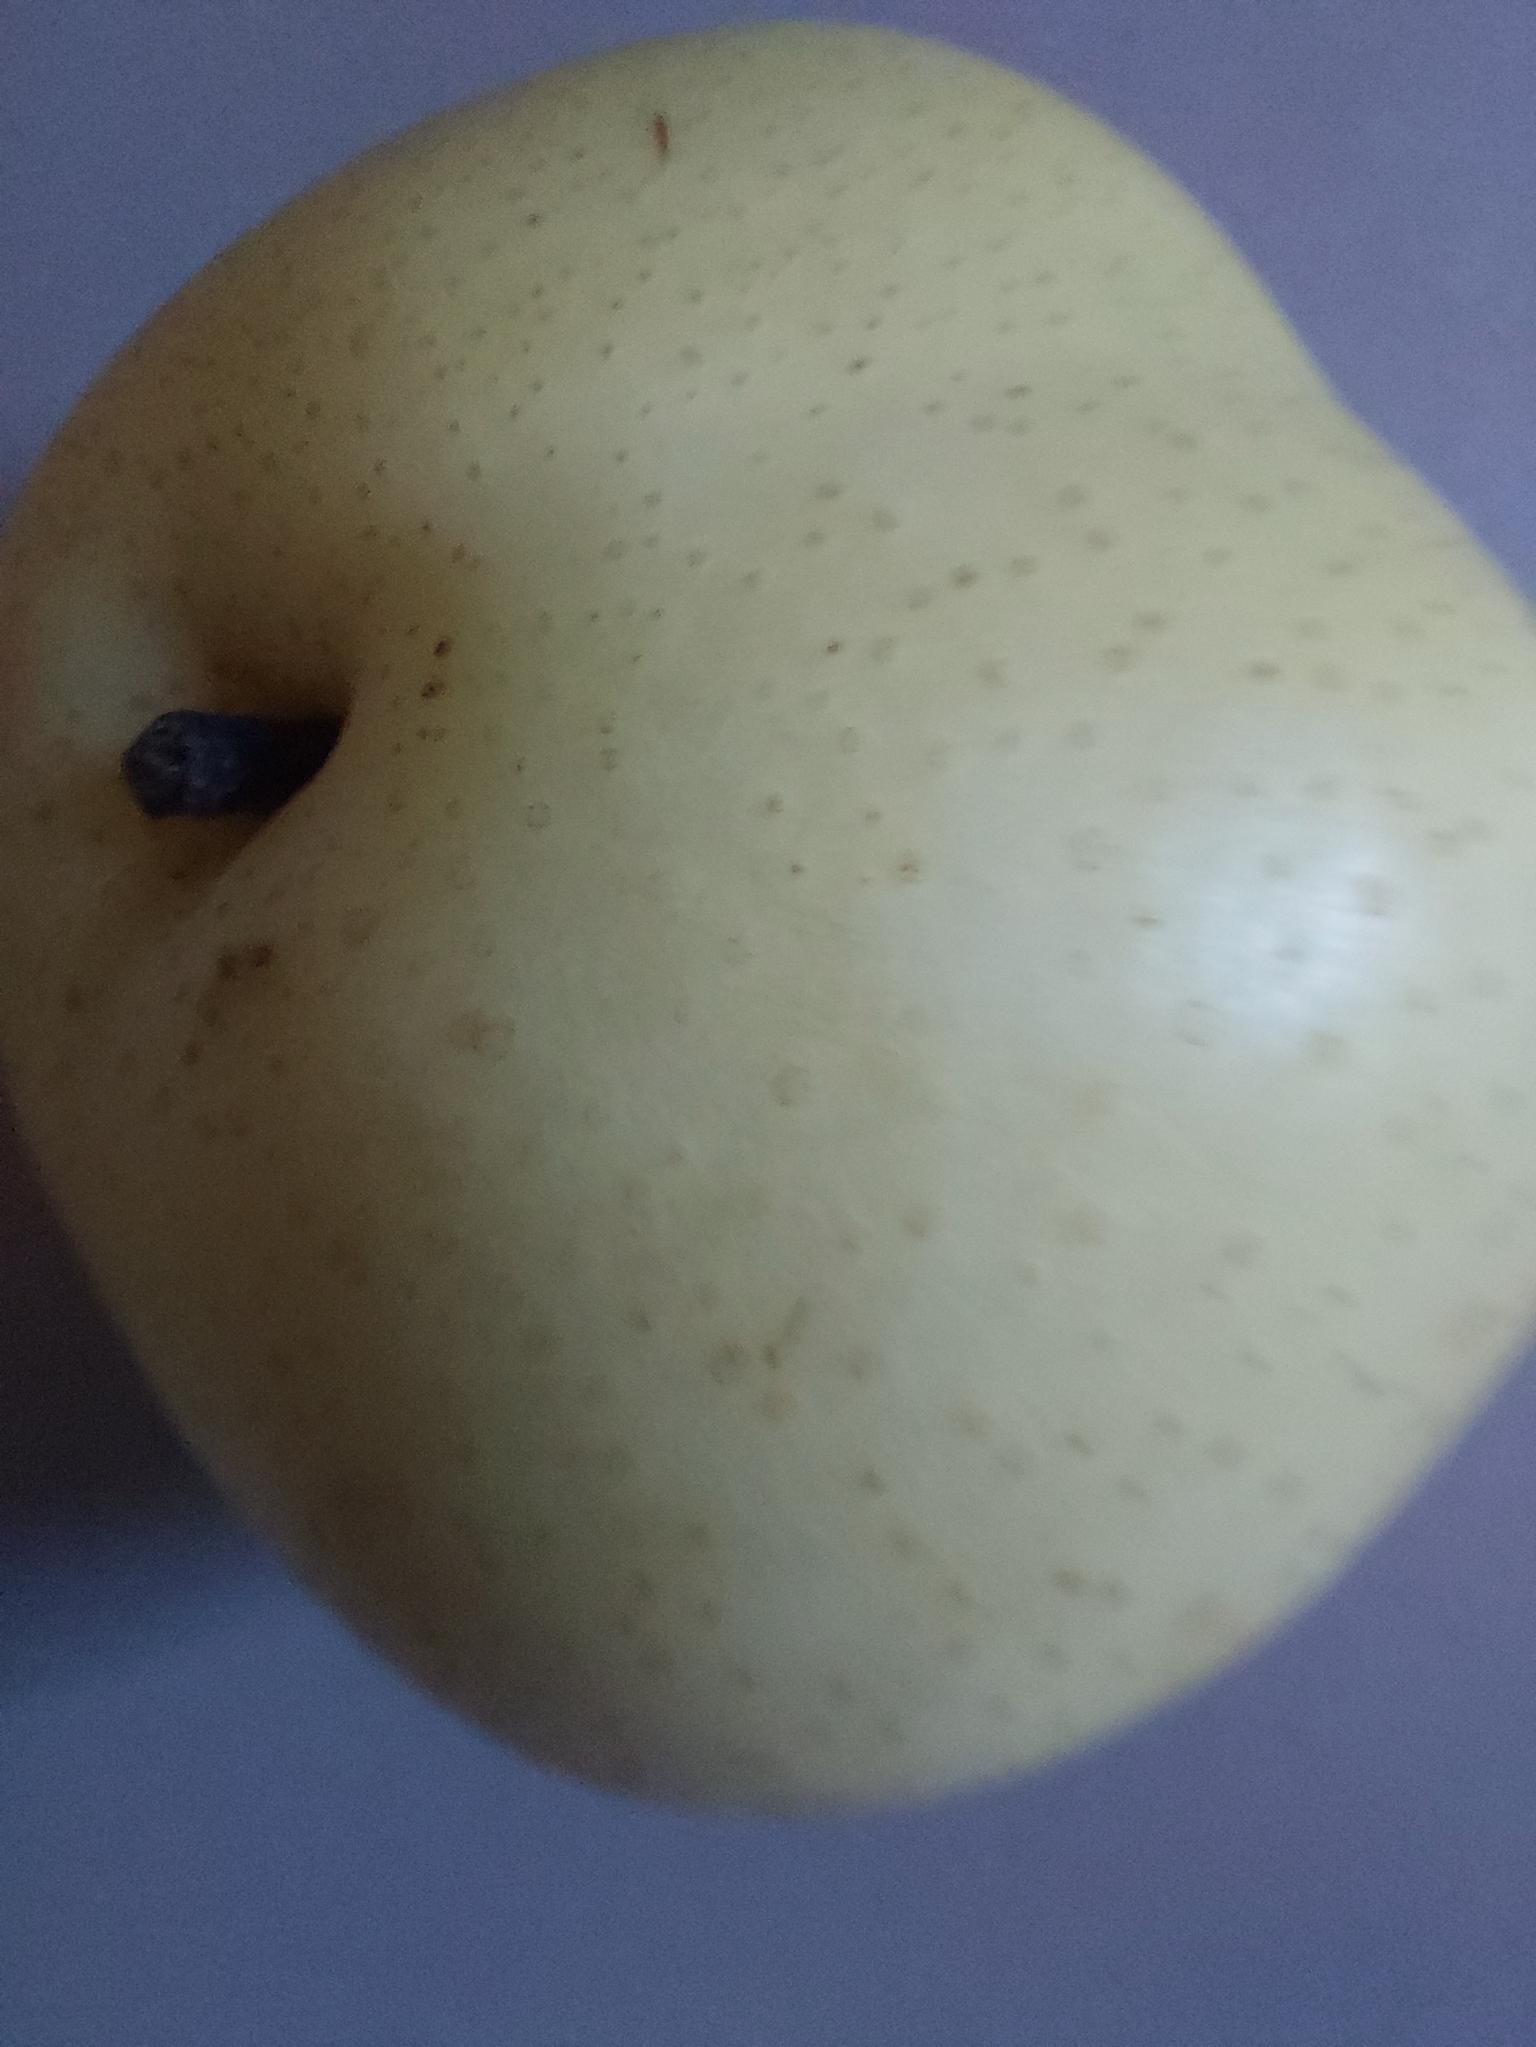Good Pear: (8, 5, 1536, 1897)
